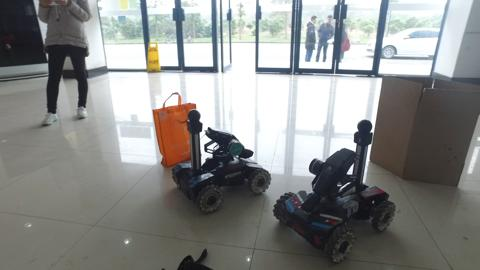bag: (150, 90, 196, 167)
box: (382, 69, 469, 175)
chariot: (273, 120, 395, 257), (181, 111, 269, 213)
